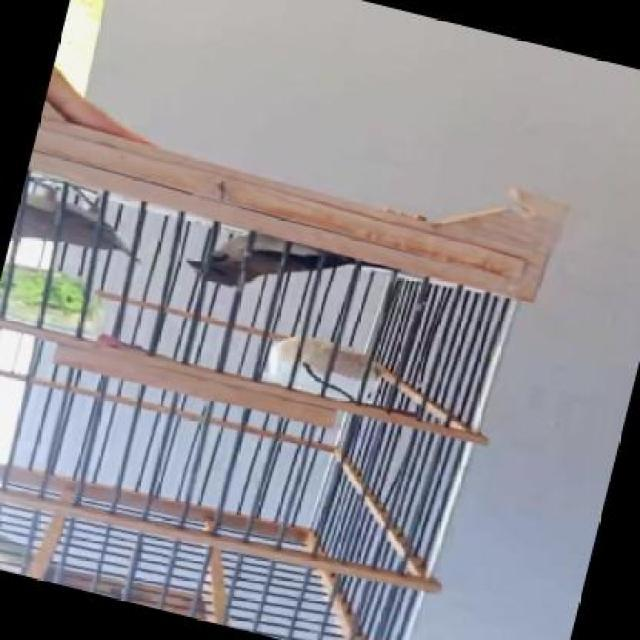Bird: (183, 207, 360, 300)
